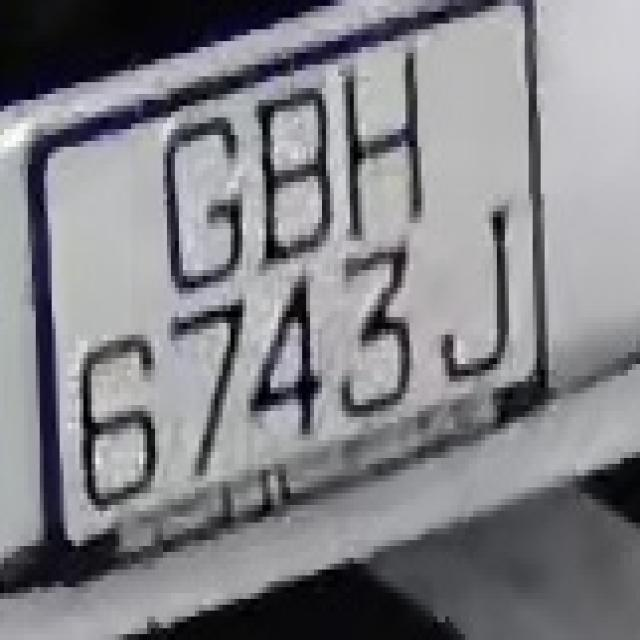3: (338, 234, 425, 428)
4: (242, 270, 330, 458)
6: (68, 328, 167, 522)
7: (151, 300, 250, 499)
B: (246, 65, 338, 276)
G: (147, 94, 254, 311)
H: (342, 41, 433, 241)
J: (437, 212, 525, 400)
